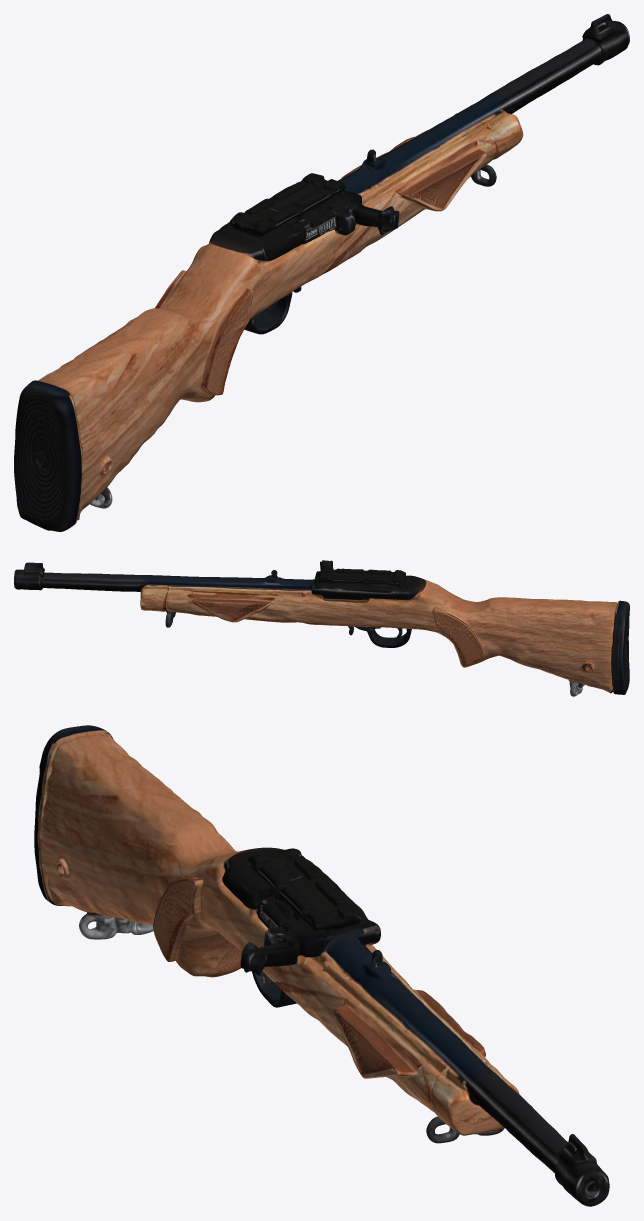
Rendered from deluxe.glb.
3 views of the same model, one above another, from view 1: azimuth 30°, elevation 25°; view 2: azimuth 150°, elevation 25°; view 3: azimuth 270°, elevation 25° (orthographic). The views are drawn at different scales.
Parts seen in each view (by area): view 1: Object_01; view 2: Object_01; view 3: Object_01.
Part boxes in pixels (box(x1,y1,x2,y2)): Object_01: box(14, 14, 629, 531); Object_01: box(14, 560, 629, 696); Object_01: box(34, 725, 609, 1206).
Bounding box in the file's own units: 1 × 0.2152 × 0.5069.
1 material, 1 textured.
